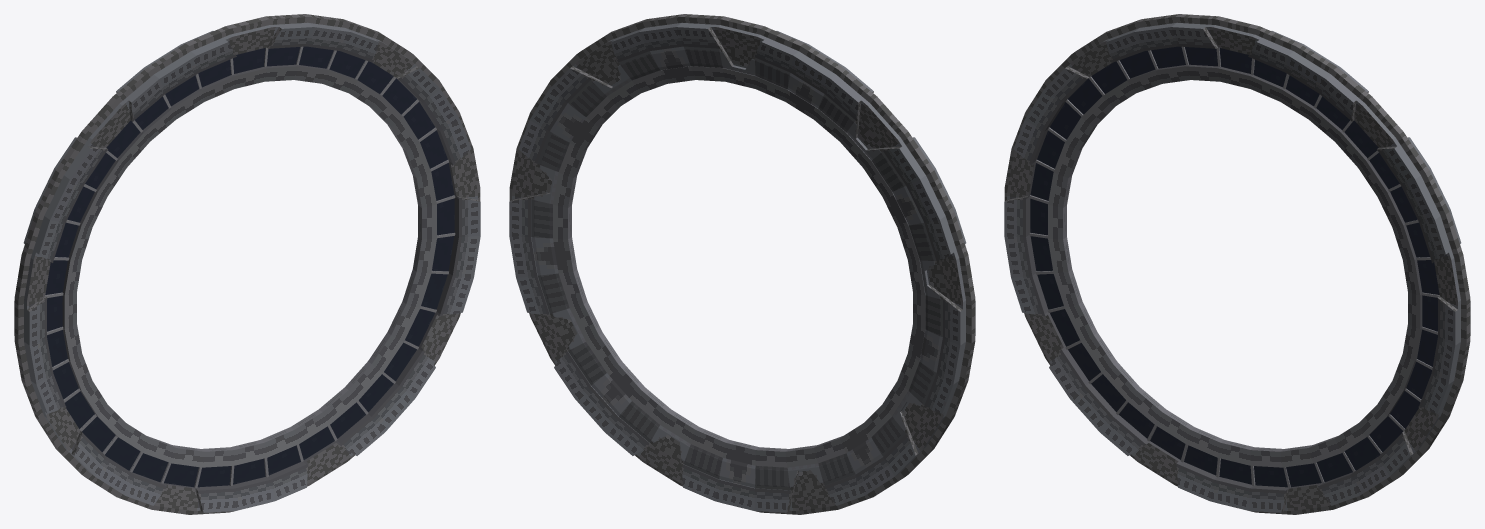
The model's file is PegasusRing.obj.
3 renders of one model, left to right at view 1: azimuth 30°, elevation 25°; view 2: azimuth 150°, elevation 25°; view 3: azimuth 330°, elevation 25°, orthographic.
Parts seen in each view (by area): view 1: RingMinecraft, GlyphsFrame, DividerMesh; view 2: RingMinecraft; view 3: RingMinecraft, GlyphsFrame, DividerMesh.
Part boxes in pixels (bbox=[...]): RingMinecraft: bbox=[14, 14, 480, 514]; GlyphsFrame: bbox=[45, 46, 454, 487]; DividerMesh: bbox=[45, 46, 455, 487]; RingMinecraft: bbox=[509, 14, 975, 514]; RingMinecraft: bbox=[1004, 14, 1470, 514]; GlyphsFrame: bbox=[1030, 46, 1439, 487]; DividerMesh: bbox=[1029, 46, 1439, 487].
Bounding box in the file's own units: 6.87 × 6.87 × 0.4.
Materials: 2 (2 with a texture image).
